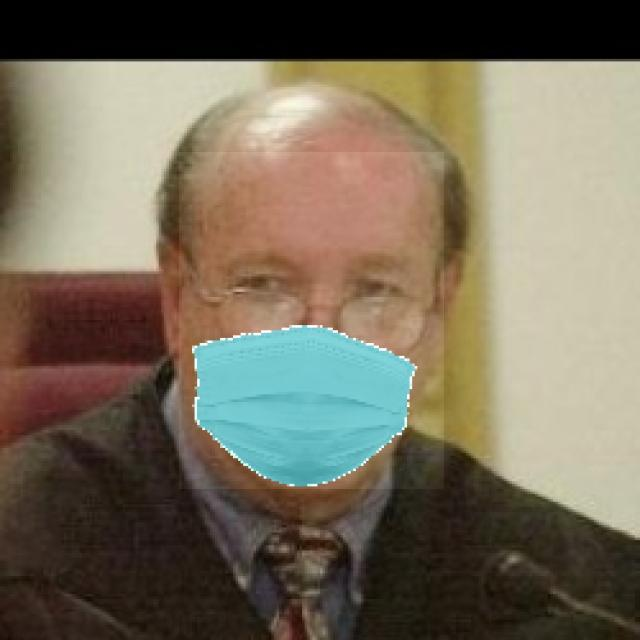surgical: (179, 152, 444, 489)
